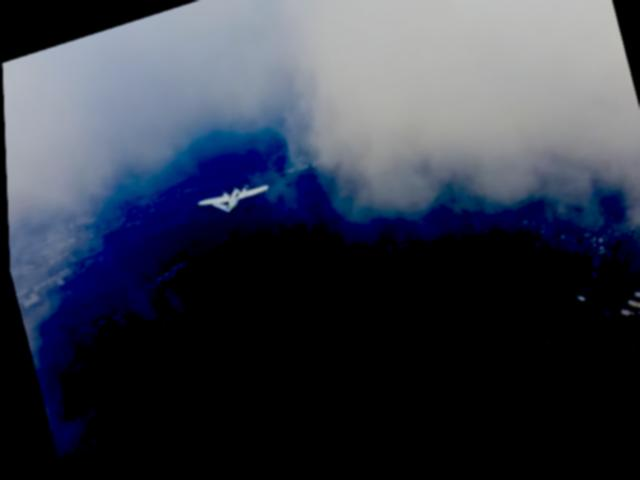uav: (192, 179, 272, 229)
